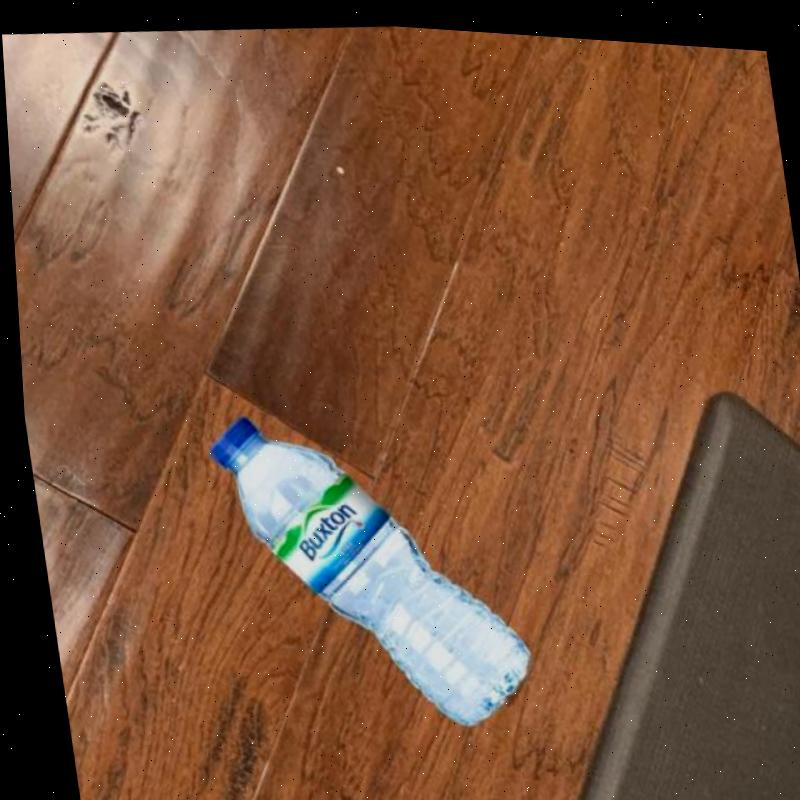botella: (194, 382, 536, 742)
